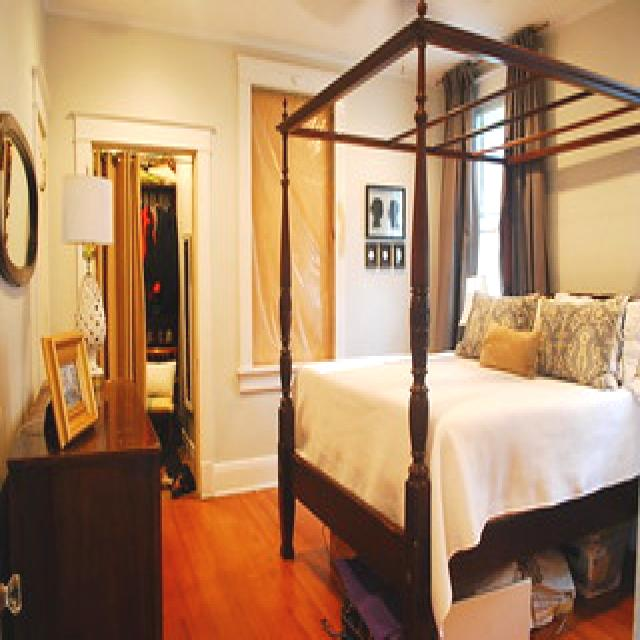bed: (289, 277, 640, 526)
